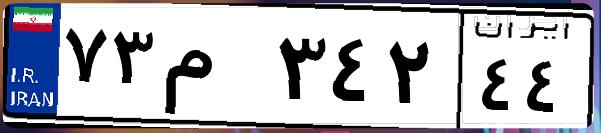2: (385, 28, 445, 110)
3: (270, 28, 330, 110), (110, 28, 158, 98)
4: (330, 28, 385, 110), (475, 38, 525, 113), (525, 38, 570, 115)
7: (57, 26, 110, 100)
م: (158, 20, 270, 120)
